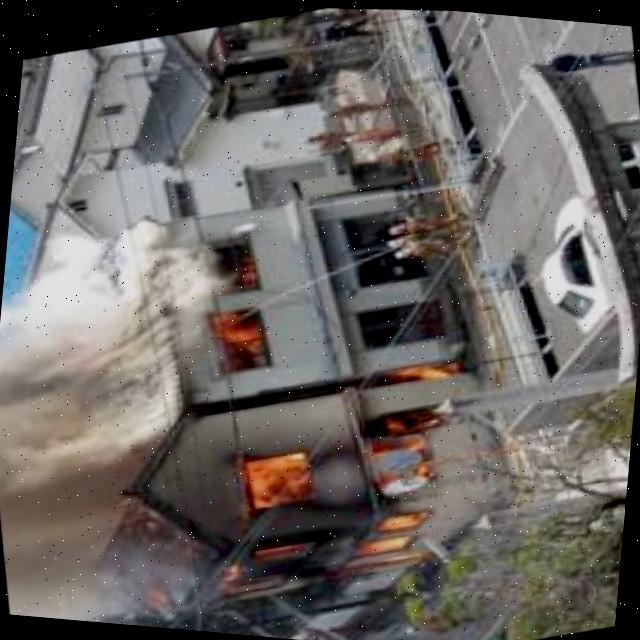fire: (158, 323, 494, 633), (189, 203, 287, 369)
